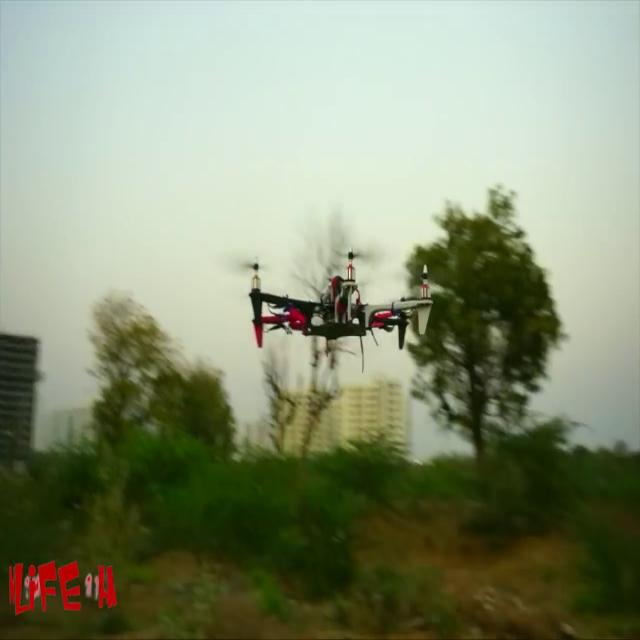drone: (224, 239, 439, 407)
